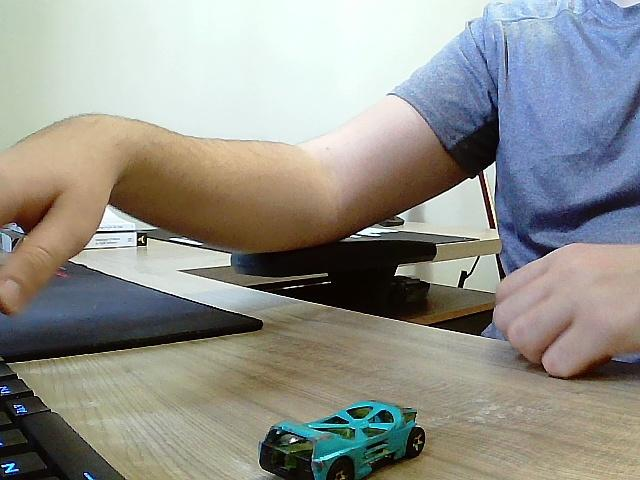Carro: (260, 401, 428, 479)
